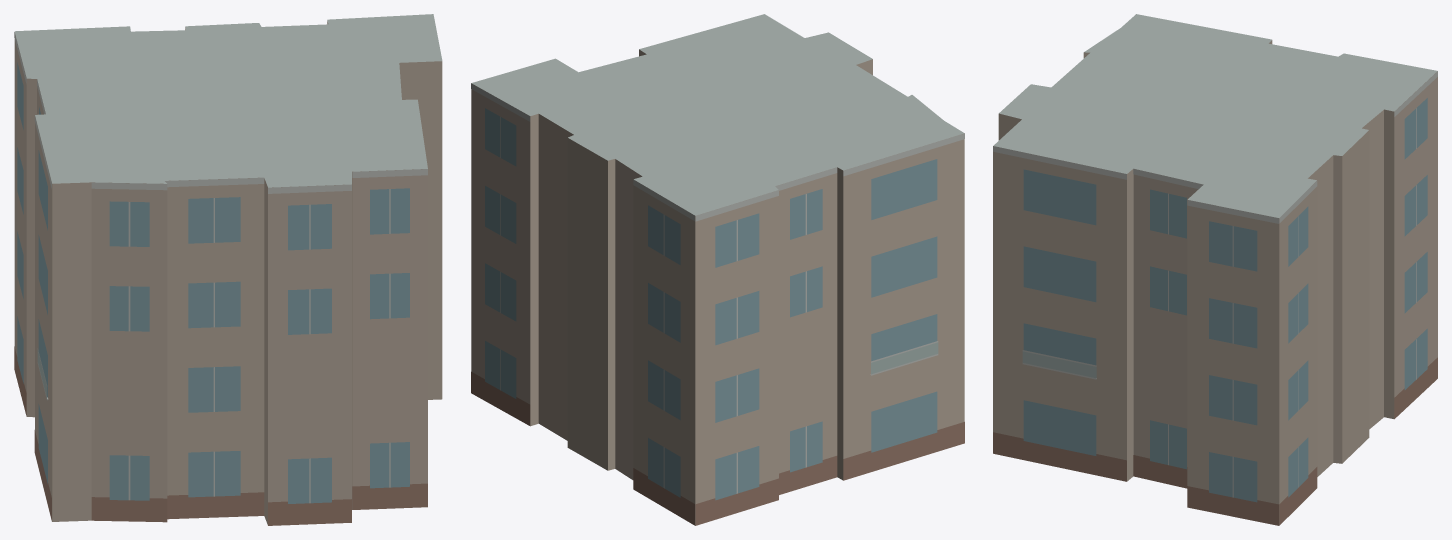
File: survey-upis-32681781.glb
3 renders of one model, left to right at view 1: azimuth 30°, elevation 25°; view 2: azimuth 150°, elevation 25°; view 3: azimuth 270°, elevation 25°, orthographic. The views are drawn at different scales.
Parts seen in each view (by area): view 1: survey-upis-32681781.tmp; view 2: survey-upis-32681781.tmp; view 3: survey-upis-32681781.tmp.
Boxes of the visible parts, left/top/right/bottom form: survey-upis-32681781.tmp: left=14, top=14, right=442, bottom=525; survey-upis-32681781.tmp: left=471, top=14, right=964, bottom=525; survey-upis-32681781.tmp: left=993, top=14, right=1437, bottom=525.
Bounding box in the file's own units: 18.44 × 12.95 × 16.97.
